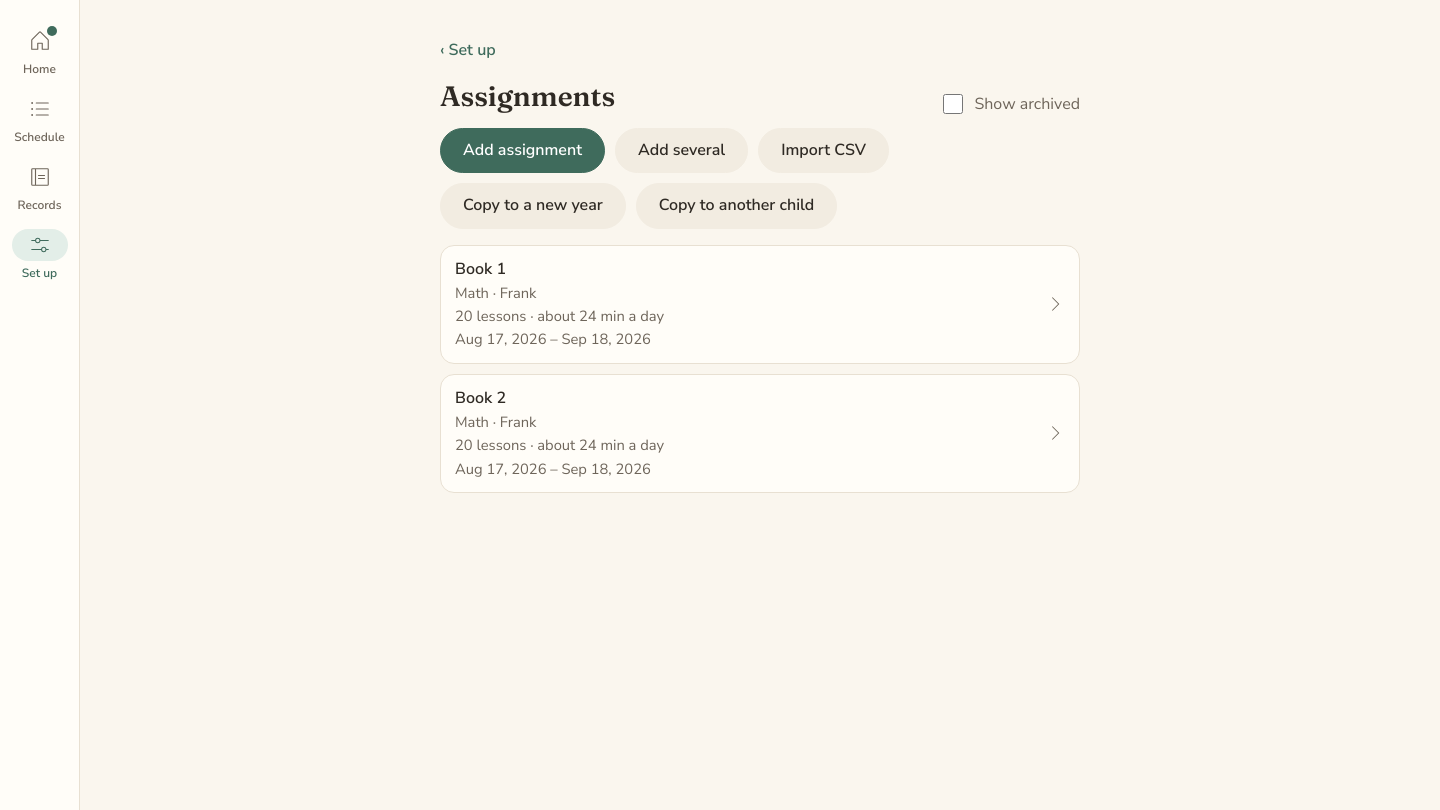
Test case: Copy to a new year (S7-01) › Untick all clears the choice and Copy needs something ticked
Check: the list named "Assignments" is shown, box x1=440 y1=245 x2=1080 y2=493
Click the button "Copy to a new year" at (533, 206), box x1=440 y1=183 x2=626 y2=229
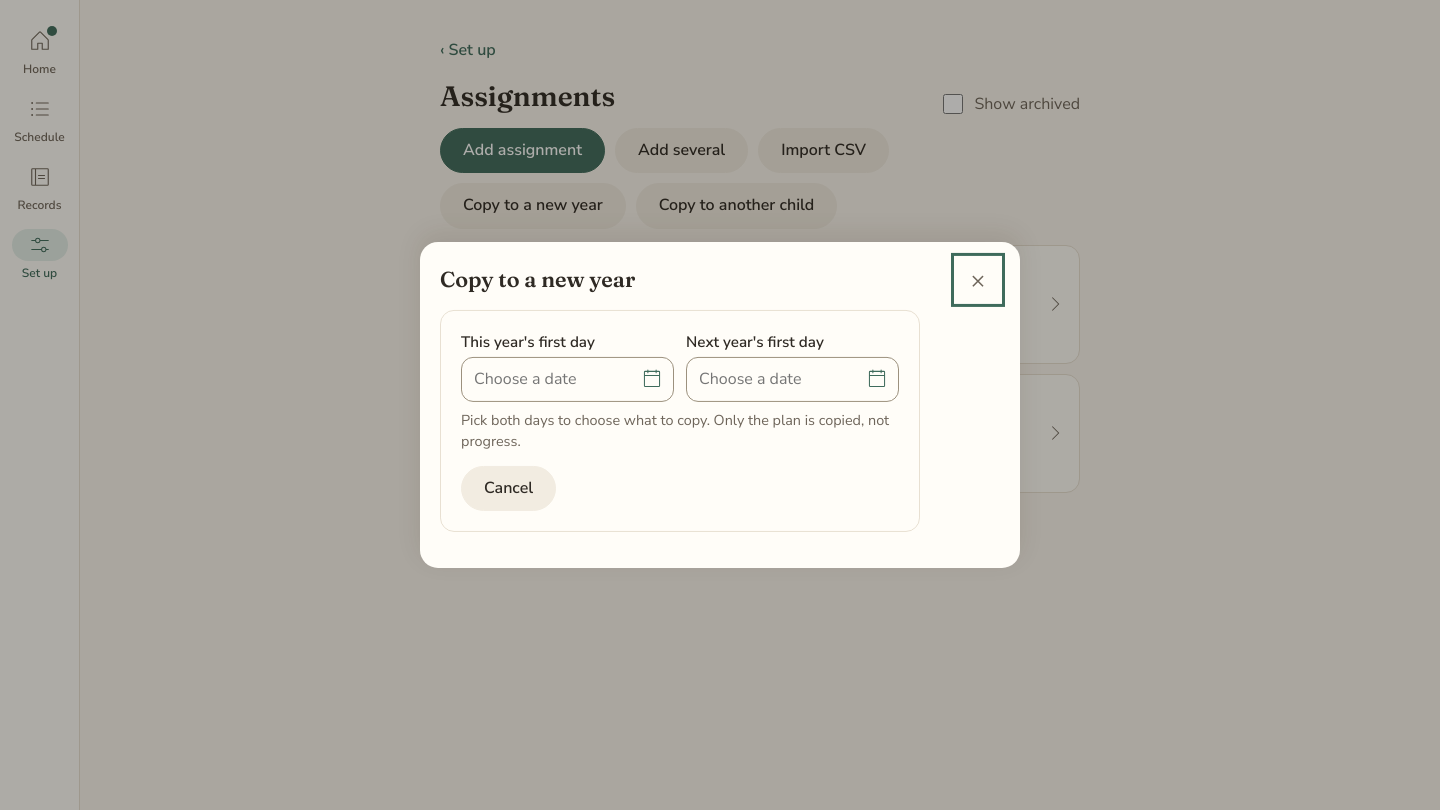
Type "2026-08-17" into the field labelled "This year's first day" at (568, 380), box x1=461 y1=357 x2=674 y2=402
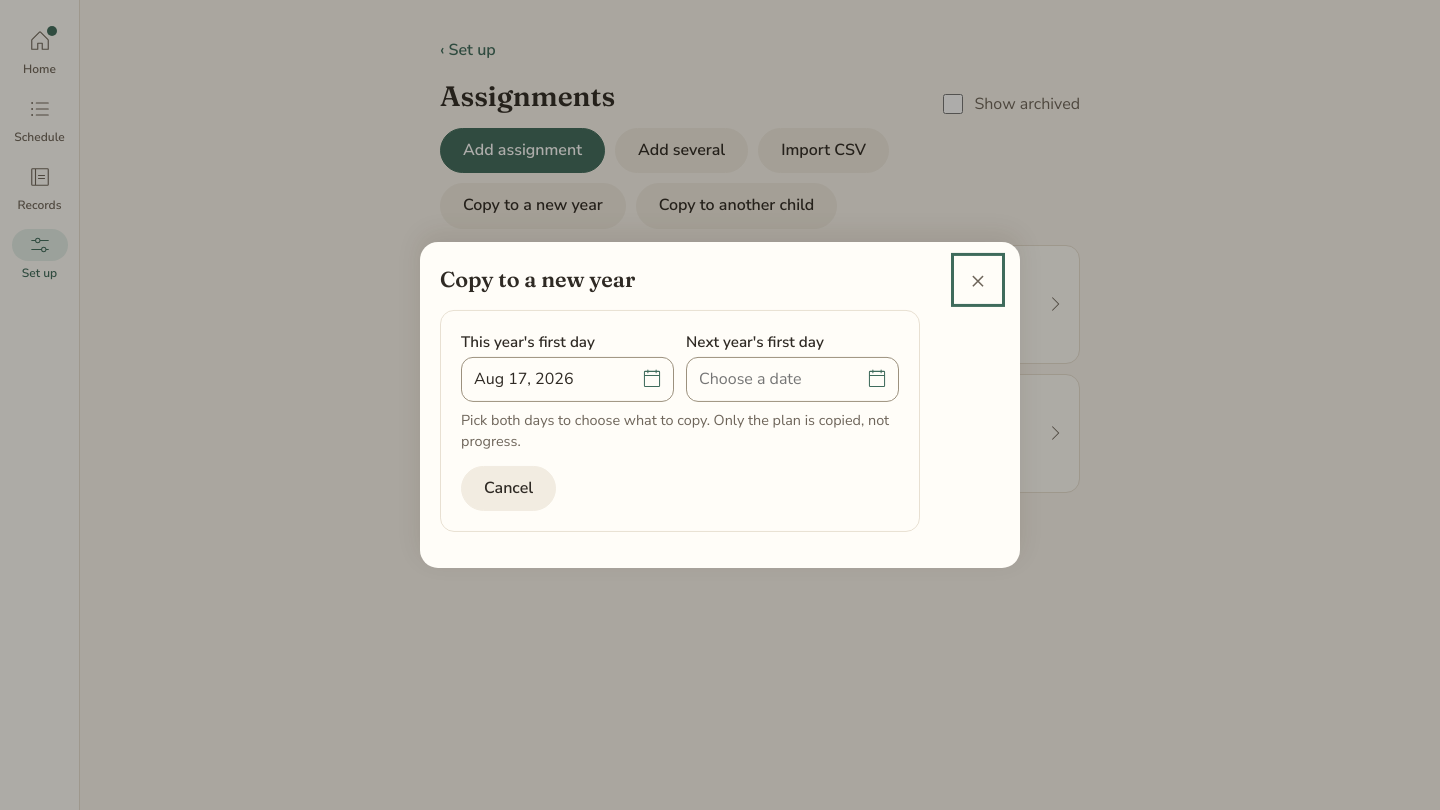
Type "2027-08-16" into the field labelled "Next year's first day" at (792, 380), box x1=686 y1=357 x2=899 y2=402
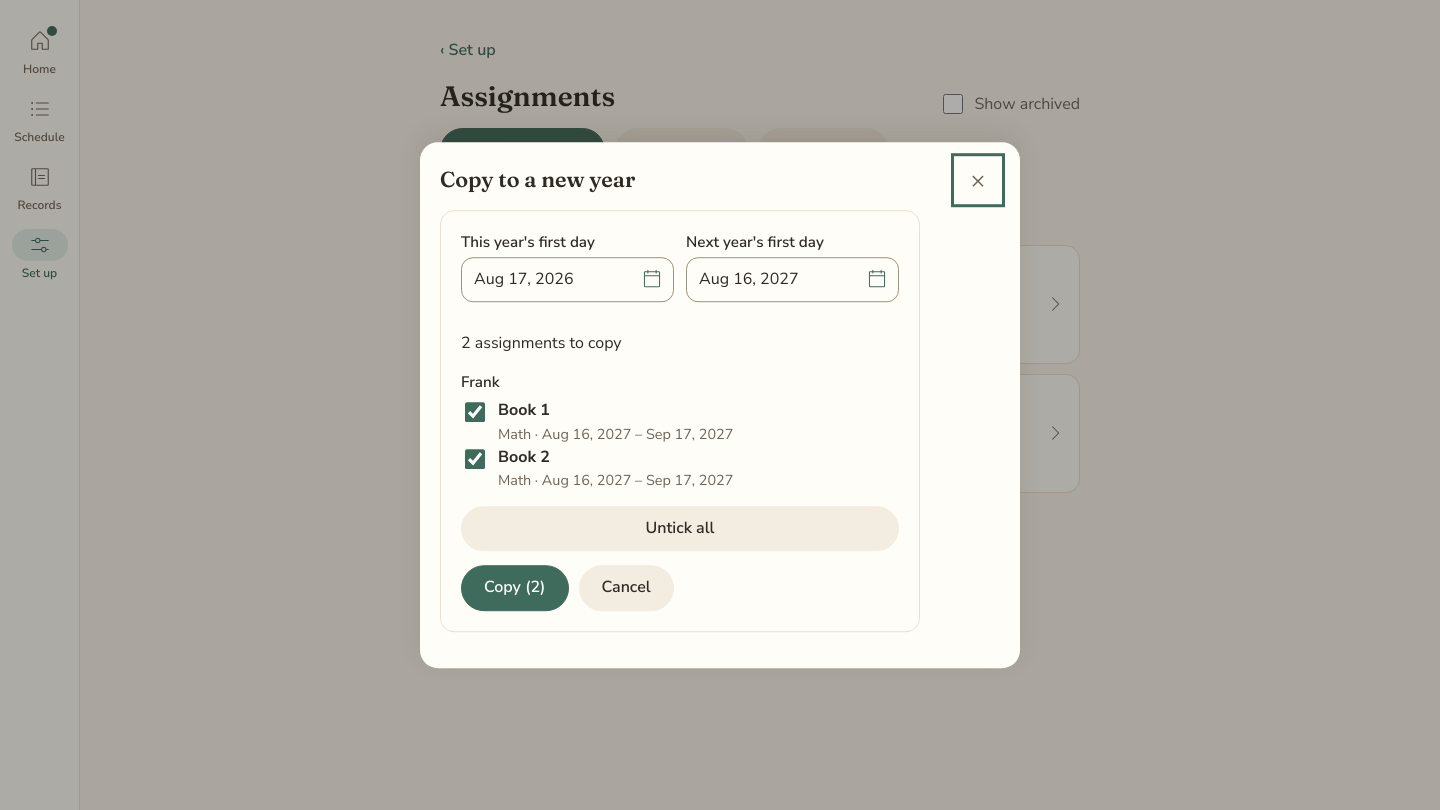
Click the button "Untick all" at (680, 529), box x1=461 y1=506 x2=899 y2=552
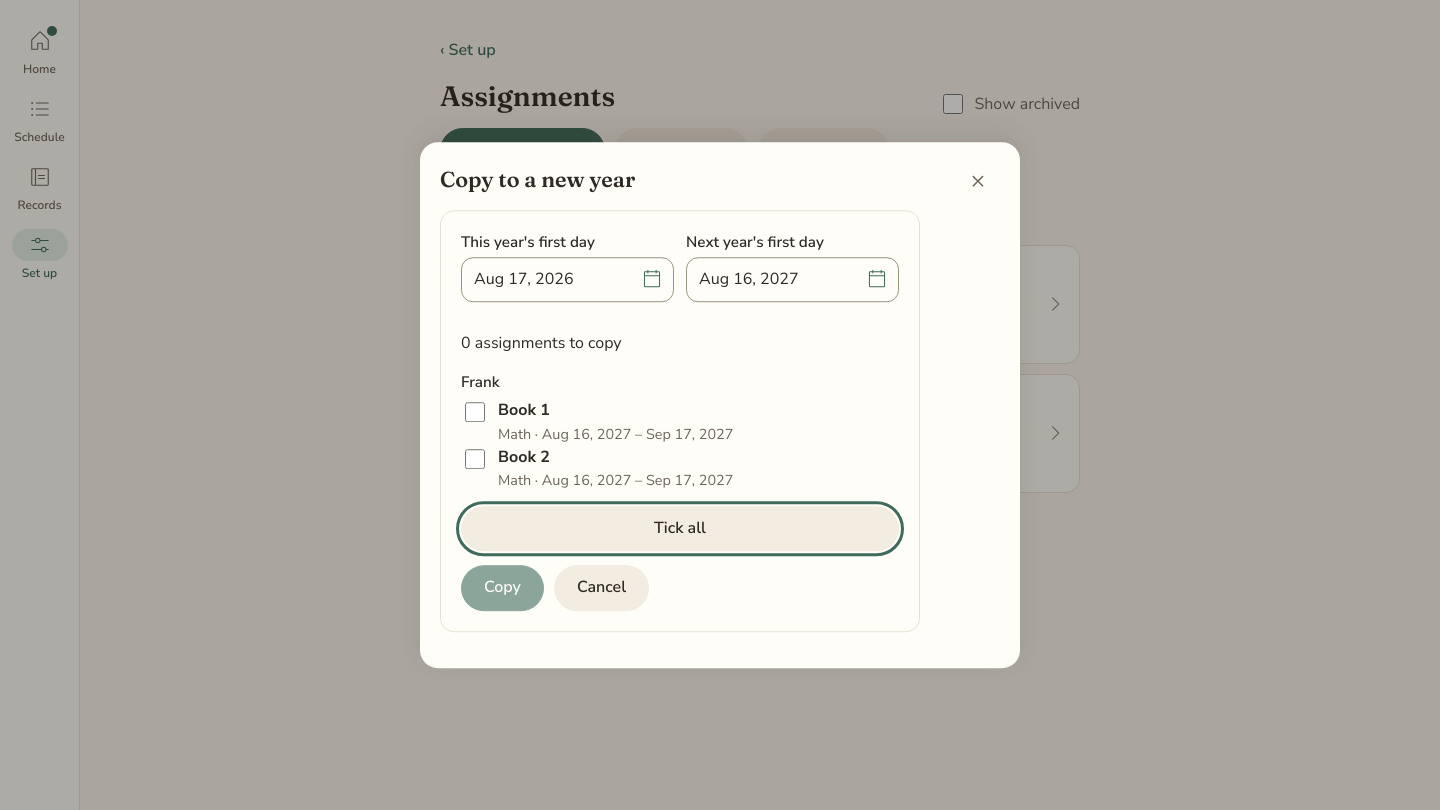
Check: the checkbox labelled "Book 1Math · Aug 16, 2027 – Sep 17, 2027" is not checked, box x1=465 y1=403 x2=485 y2=423
Check: the checkbox labelled "Book 2Math · Aug 16, 2027 – Sep 17, 2027" is not checked, box x1=465 y1=449 x2=485 y2=469
Check: the button "Copy" is disabled, box x1=461 y1=566 x2=544 y2=611
Click the button "Tick all" at (680, 529), box x1=461 y1=506 x2=899 y2=552
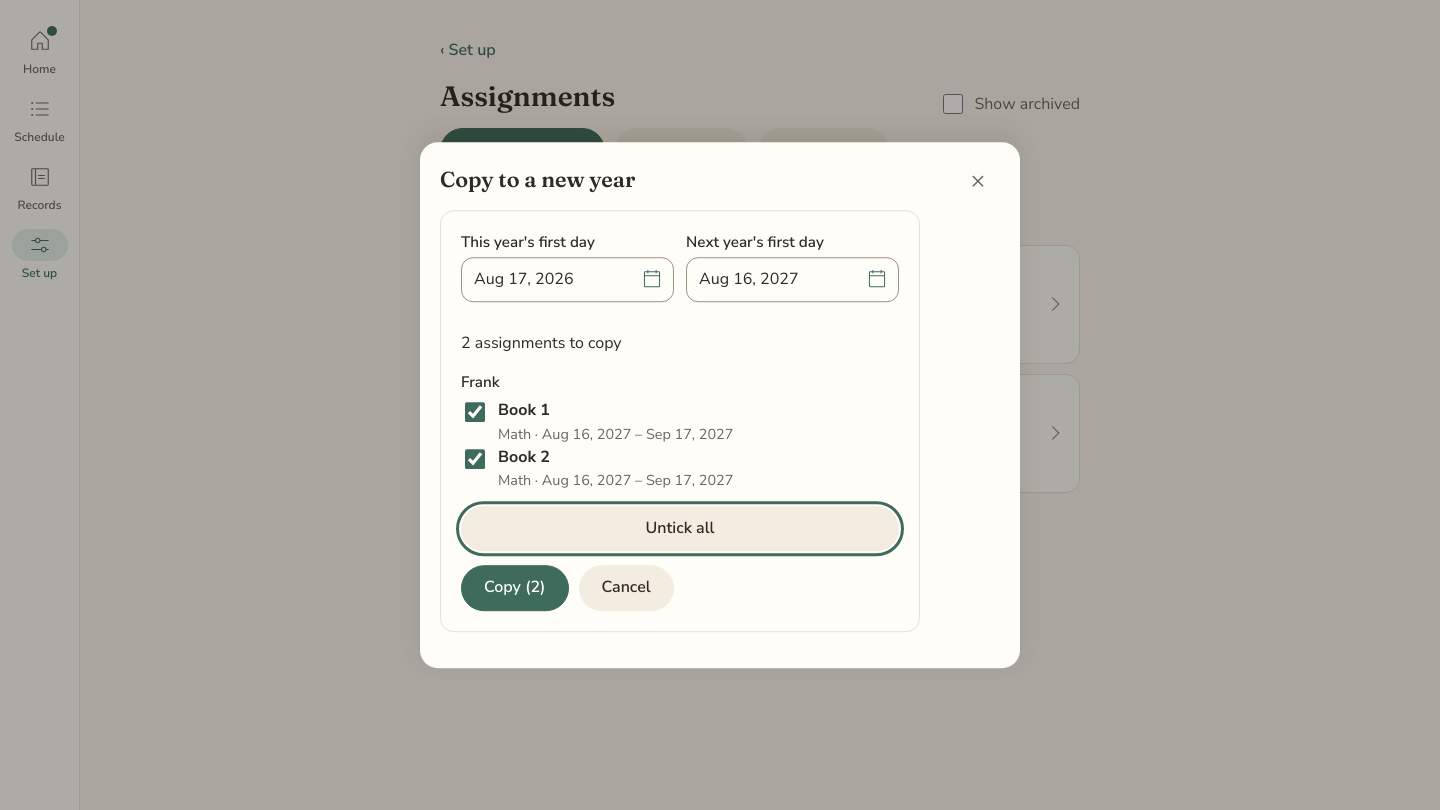
Check: the checkbox labelled "Book 1Math · Aug 16, 2027 – Sep 17, 2027" is checked, box x1=465 y1=403 x2=485 y2=423
Check: the checkbox labelled "Book 2Math · Aug 16, 2027 – Sep 17, 2027" is checked, box x1=465 y1=449 x2=485 y2=469
